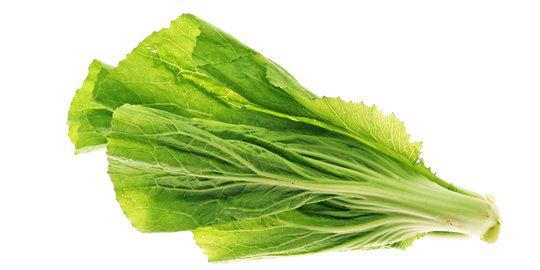Sawi: (65, 24, 524, 257)
